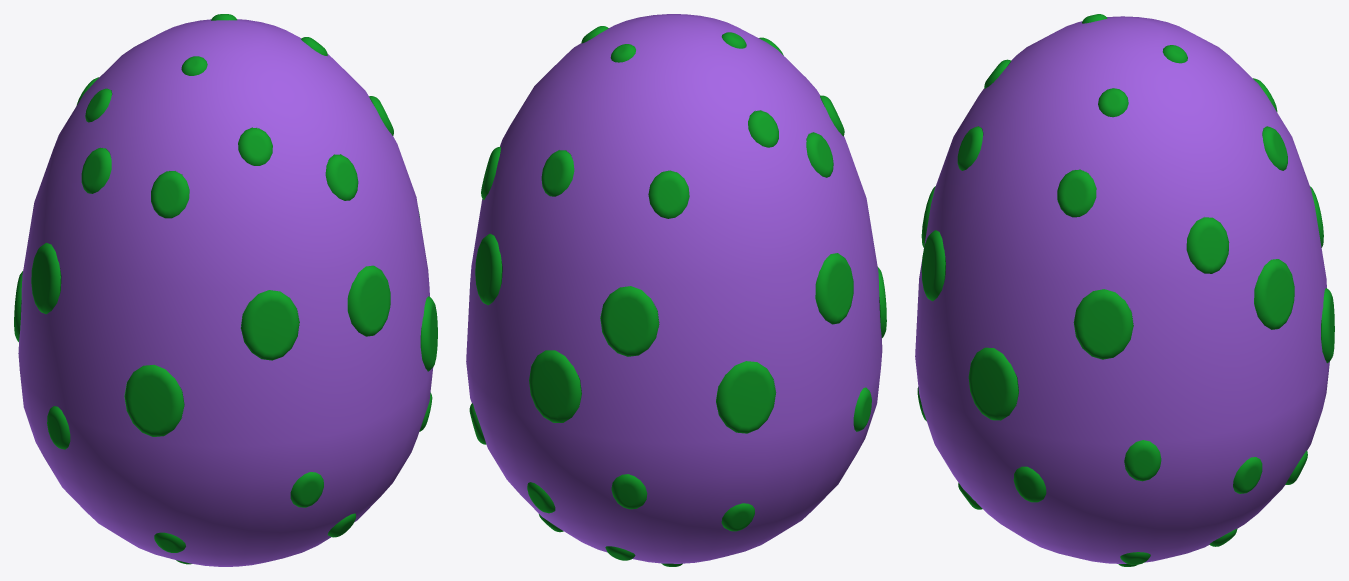
File: Ingredient_egg_2.fbx
3 renders of one model, left to right at view 1: azimuth 30°, elevation 25°; view 2: azimuth 150°, elevation 25°; view 3: azimuth 270°, elevation 25°, orthographic.
Visible parts, largest first — view 1: Egg Not Cracked; view 2: Egg Not Cracked; view 3: Egg Not Cracked.
Part boxes in pixels (x1,y1,x2,y2): Egg Not Cracked: (14,14,437,566); Egg Not Cracked: (466,14,886,566); Egg Not Cracked: (915,14,1334,566).
Bounding box in the file's own units: 20.29 × 27.26 × 20.16.
